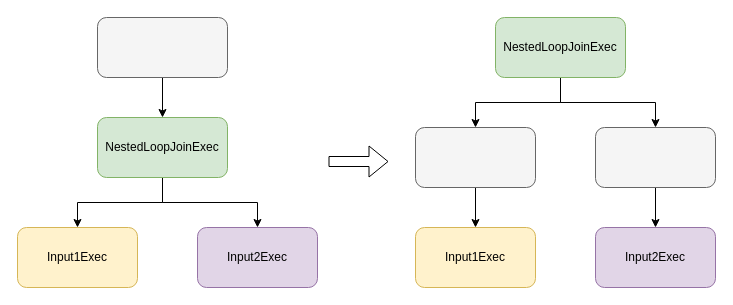
This 733x305 diagram has some shape labels left out. The shapes that lost their labels are listed below. From the top down, each one's centre as x and y in pixels, then its label:
pixel 162 47: ProjectionExec
pixel 475 157: Projection1Exec
pixel 655 157: Projection2Exec
